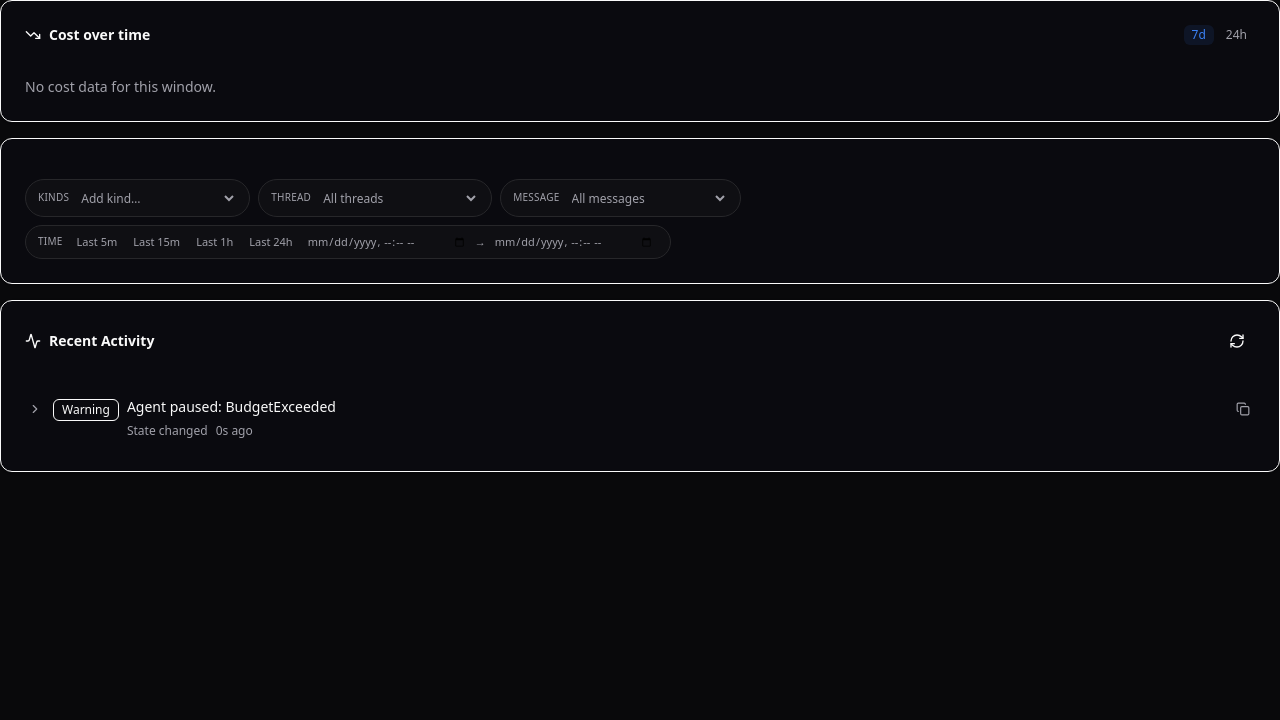
Test: ActivityTab (Agent subject) › renders the expandable-row affordance for agent events with details
What coordinates should you click on to do the following:
click the button with test id "activity-row-toggle"
I would click on:
 (35, 409)
Its box is [25,399,45,419].
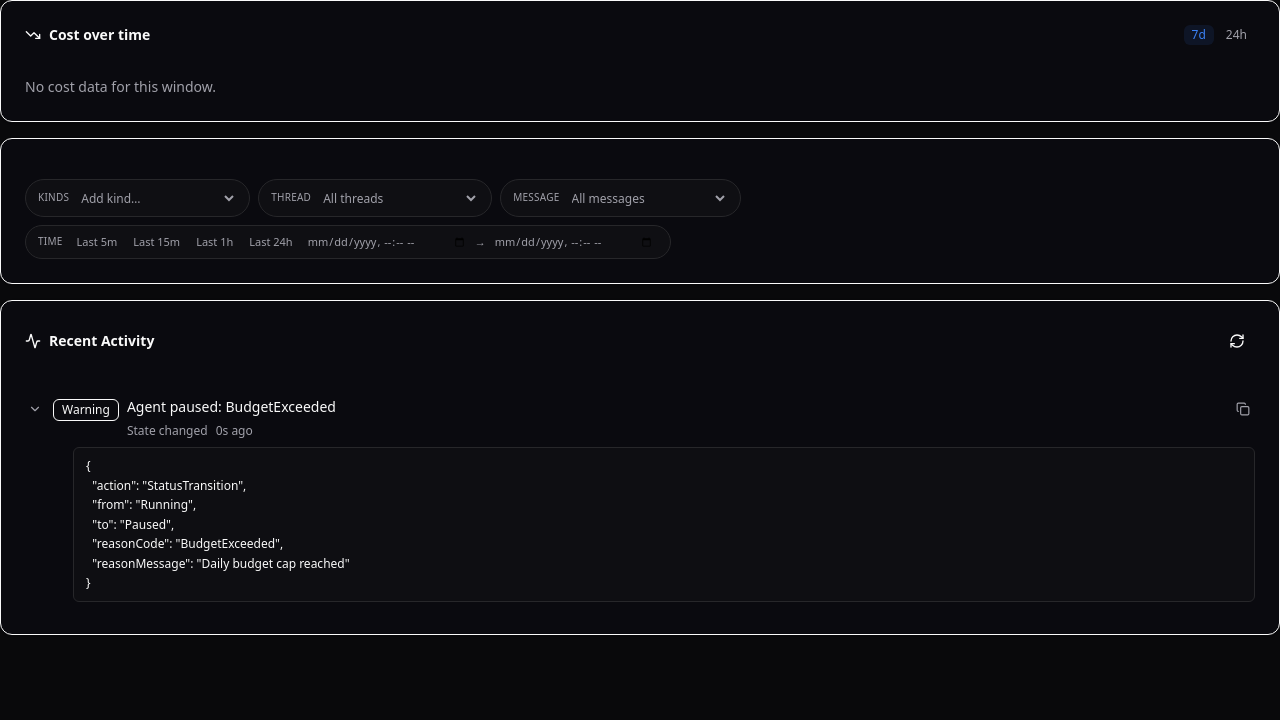
Now the text with test id "activity-row-details" shows "\"reasonCode\": \"BudgetExceeded\"", box [86,457,350,591]
